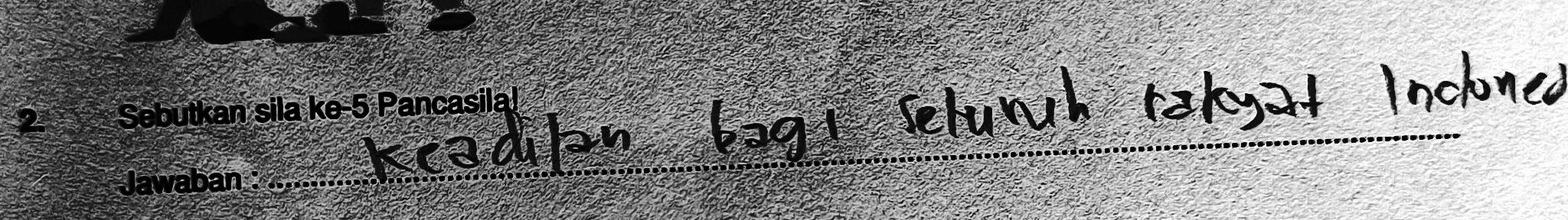jawaban: (361, 95, 635, 190), (898, 62, 1094, 147), (1378, 40, 1567, 120), (1140, 60, 1329, 137), (708, 88, 848, 169)
